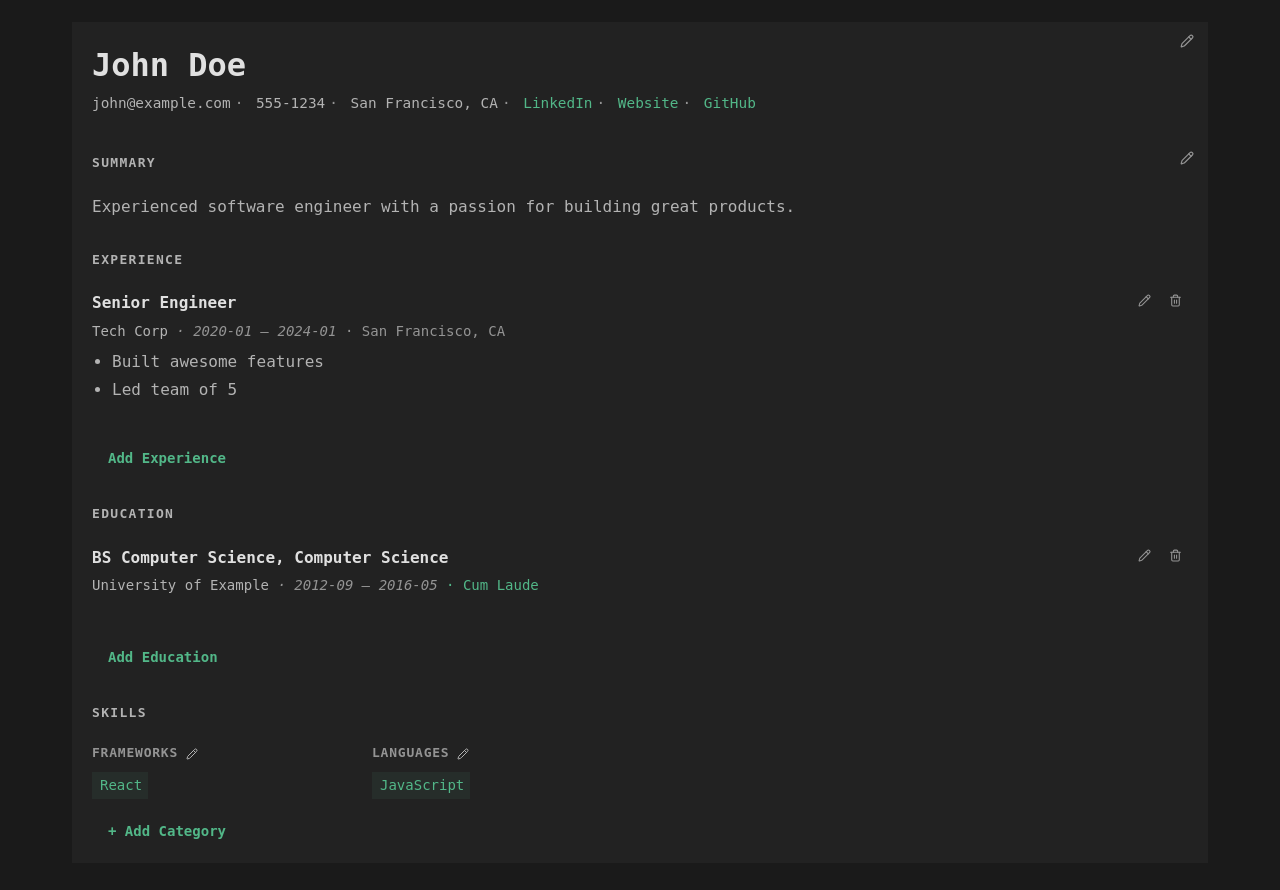
ResumeView › Error Handling › shows refresh error without hiding existing data
Expected: the heading "John Doe" is shown, [92, 46, 246, 84]
Expected: the element with test id "contact-section" is shown, [92, 46, 756, 111]
# Trigger a section update (edit contact and save)
Click the button named "edit": (1187, 41) [1174, 30, 1200, 52]
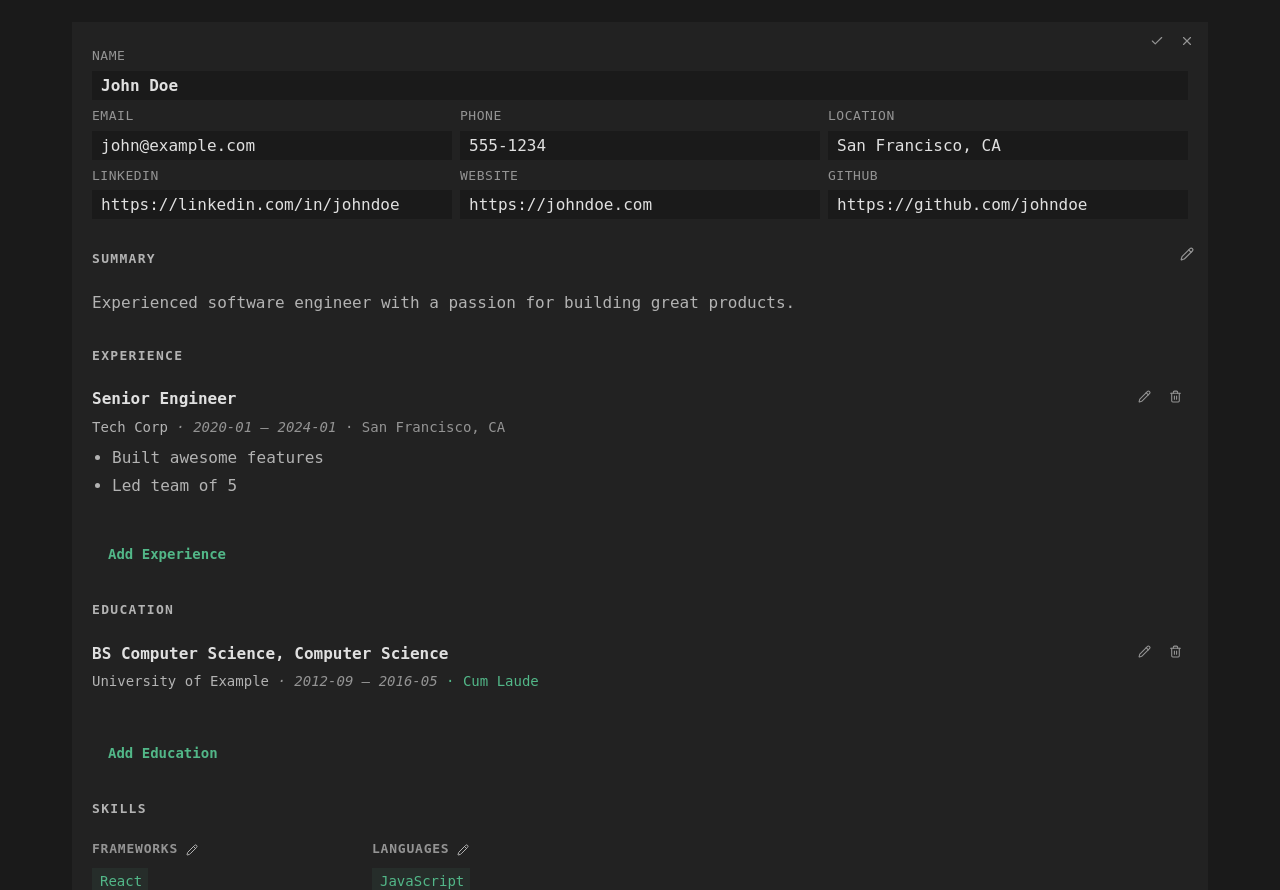
# Find and click save button
Click the button named "save contact": (1157, 41) [1144, 30, 1170, 52]
(page scrolled)
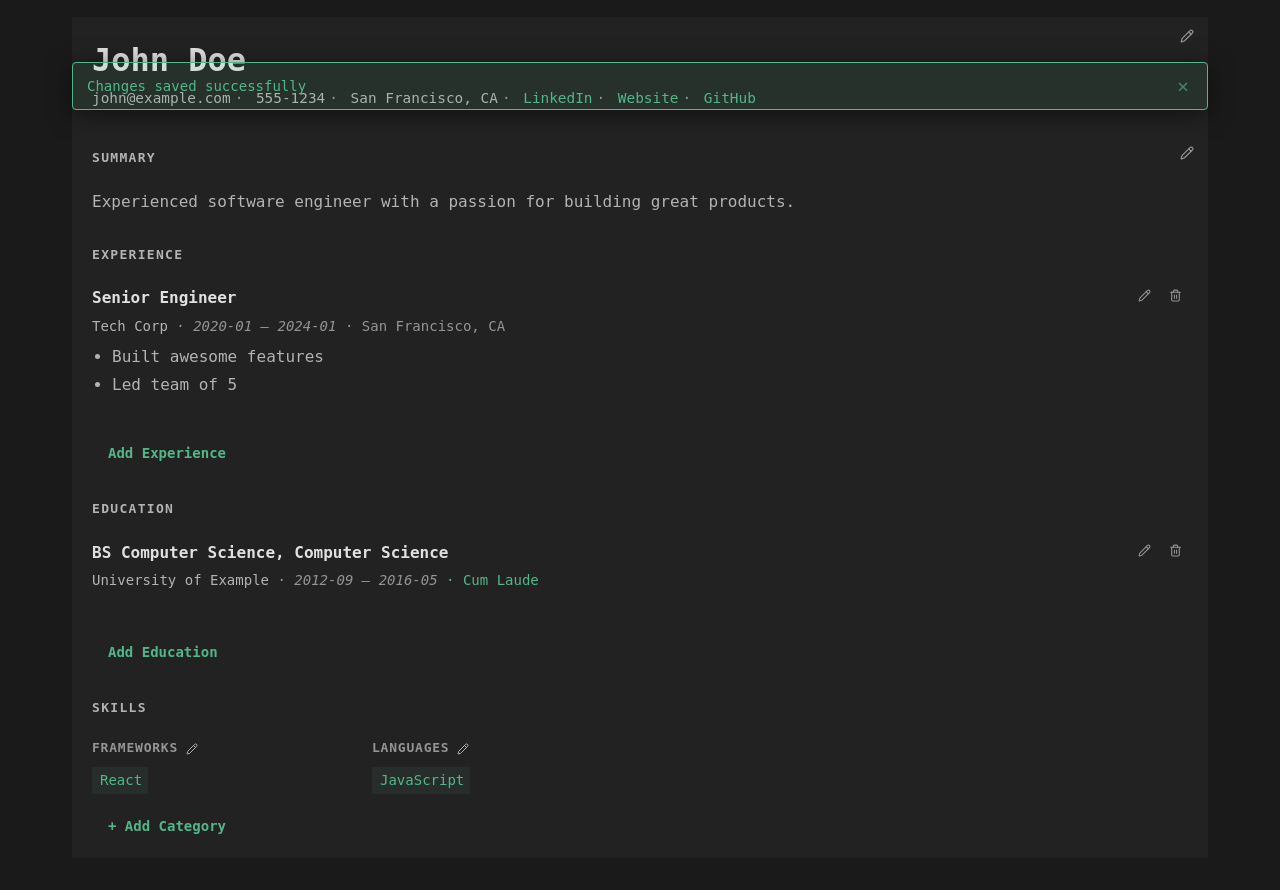
Expected: the element with test id "contact-section" is shown, [92, 41, 756, 106]
Expected: the heading "John Doe" is shown, [92, 41, 246, 79]
